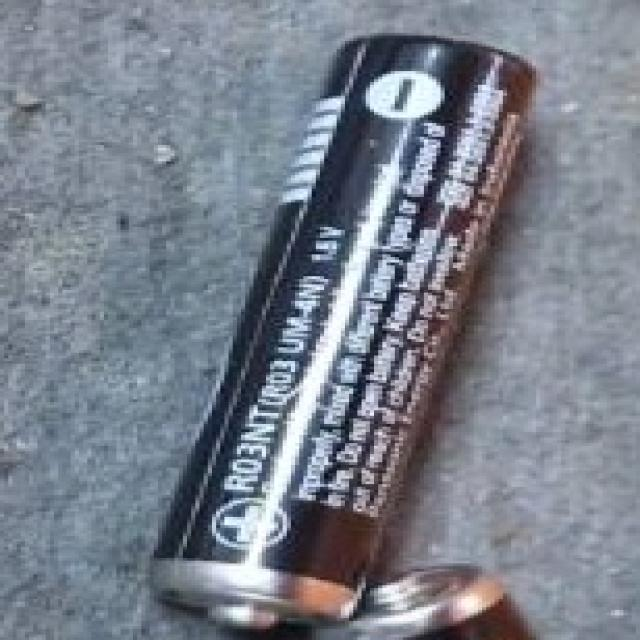battery: (79, 0, 640, 615)
